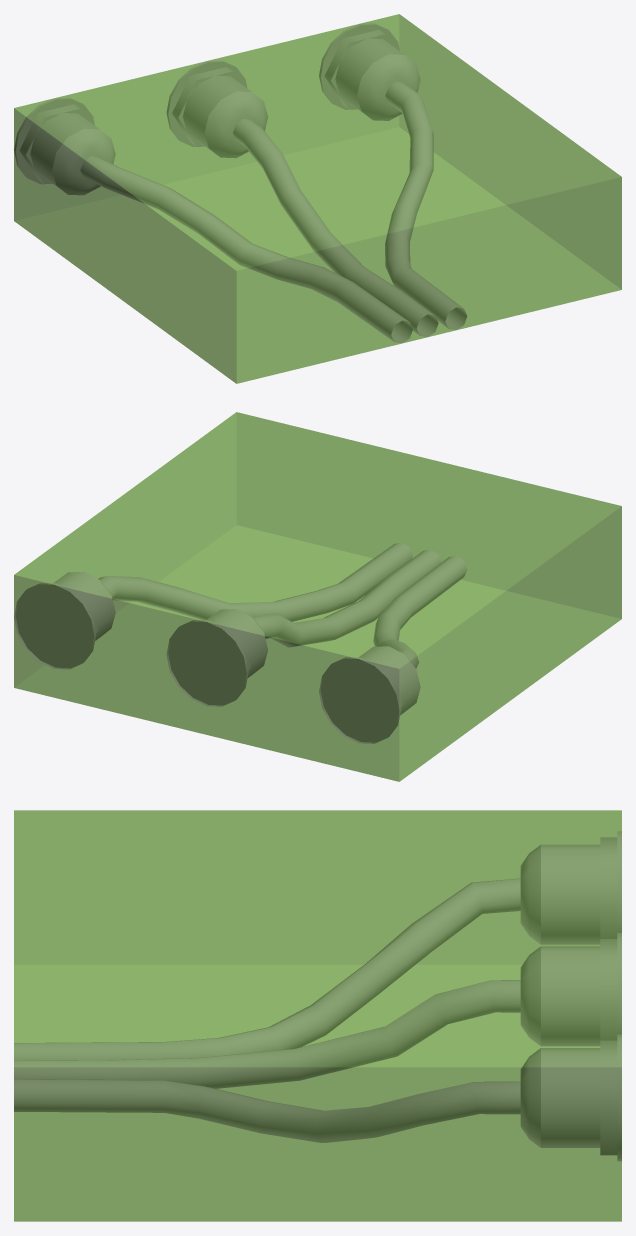
The model's file is p_CablingBigConnectorCable_01_b.fbx.
3 views of the same model, one above another, from view 1: azimuth 30°, elevation 25°; view 2: azimuth 150°, elevation 25°; view 3: azimuth 270°, elevation 25° (orthographic). The views are drawn at different scales.
Parts seen in each view (by area): view 1: p_CablingBigConnectorCable_01_b_col, p_CablingBigConnectorCable_01_b_LOD0; view 2: p_CablingBigConnectorCable_01_b_col, p_CablingBigConnectorCable_01_b_LOD0; view 3: p_CablingBigConnectorCable_01_b_col, p_CablingBigConnectorCable_01_b_LOD0.
Part boxes in pixels (x1,y1,x2,y2): p_CablingBigConnectorCable_01_b_col: (14, 14, 621, 383); p_CablingBigConnectorCable_01_b_LOD0: (14, 23, 466, 343); p_CablingBigConnectorCable_01_b_col: (14, 412, 621, 781); p_CablingBigConnectorCable_01_b_LOD0: (14, 542, 466, 743); p_CablingBigConnectorCable_01_b_col: (14, 810, 621, 1221); p_CablingBigConnectorCable_01_b_LOD0: (14, 831, 621, 1161).
Size of what is drawn, in the model's own units: 17.5 by 4.9 by 17.5.
